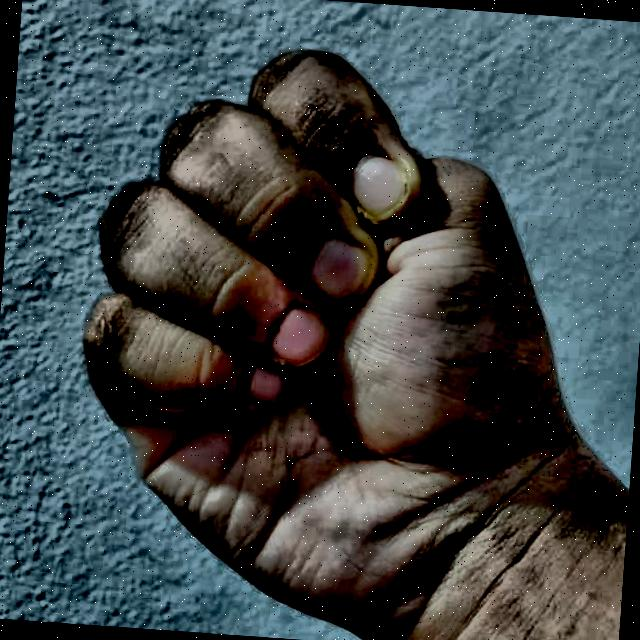To: (38, 12, 608, 640)
